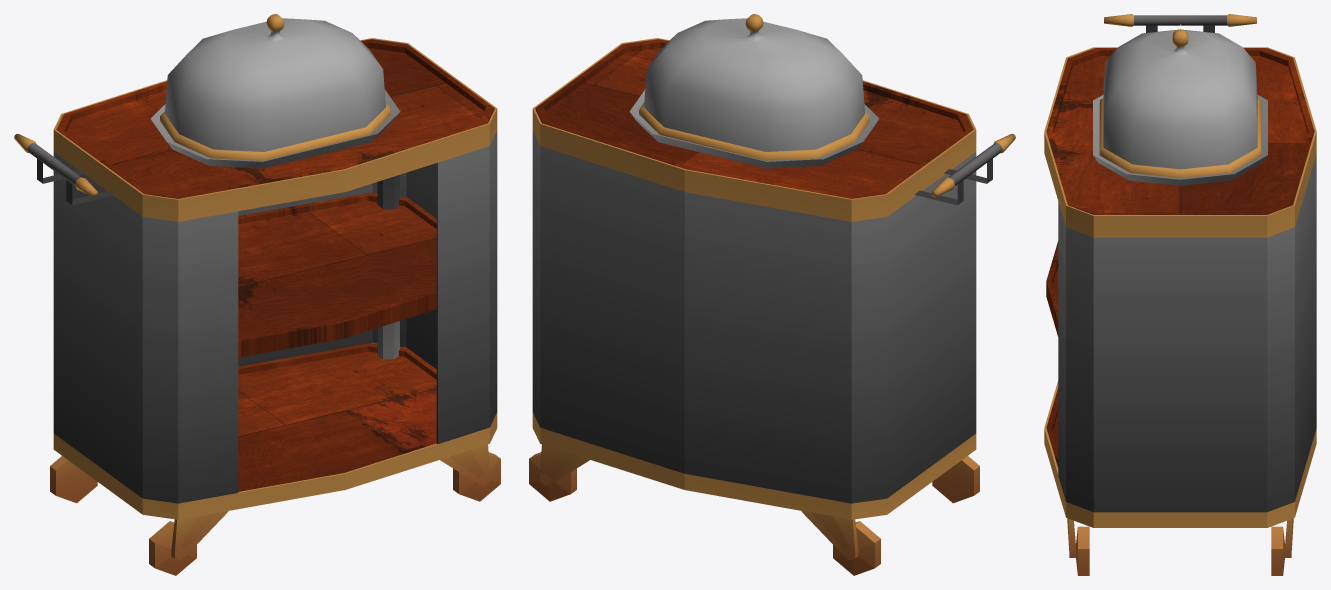
The model's file is DinnerCart.fbx.
3 renders of one model, left to right at view 1: azimuth 30°, elevation 25°; view 2: azimuth 150°, elevation 25°; view 3: azimuth 270°, elevation 25°, orthographic. The views are drawn at different scales.
Parts seen in each view (by area): view 1: Cylinder.029; view 2: Cylinder.029; view 3: Cylinder.029.
Boxes of the visible parts, x1,y1,x2,y2 form: Cylinder.029: (14,14,500,575); Cylinder.029: (529,14,1015,575); Cylinder.029: (1044,14,1316,575).
Bounding box in the file's own units: 218 × 250 × 131.
